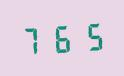five: (77, 18, 105, 52)
seven: (18, 23, 46, 57)
six: (48, 21, 76, 54)
